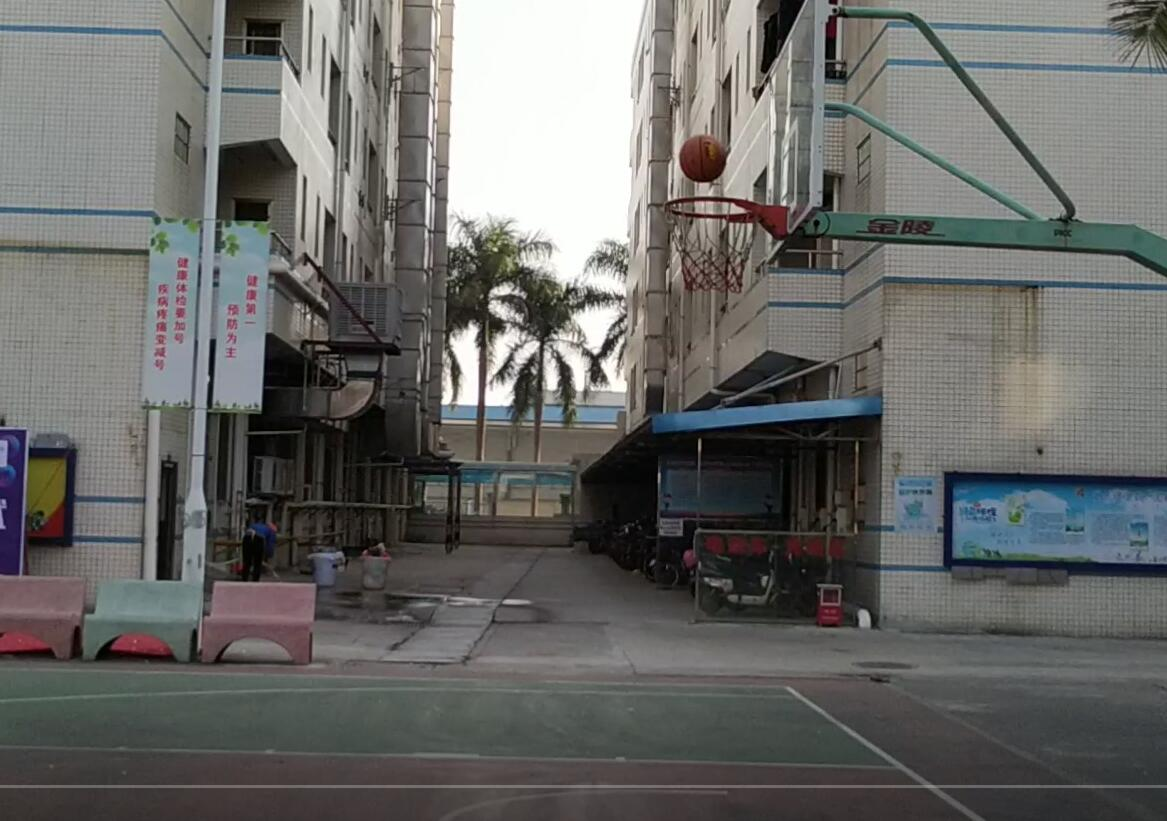basketball: (678, 135, 727, 185)
